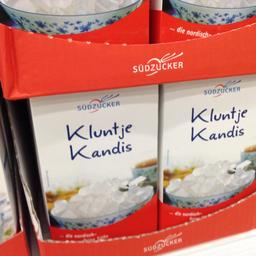sugar: (28, 82, 158, 238), (159, 74, 255, 230)
